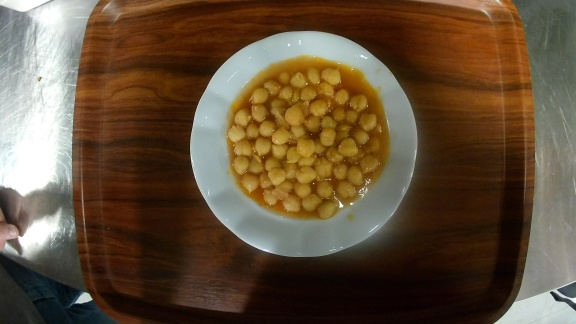sulunohut: (189, 28, 418, 260)
